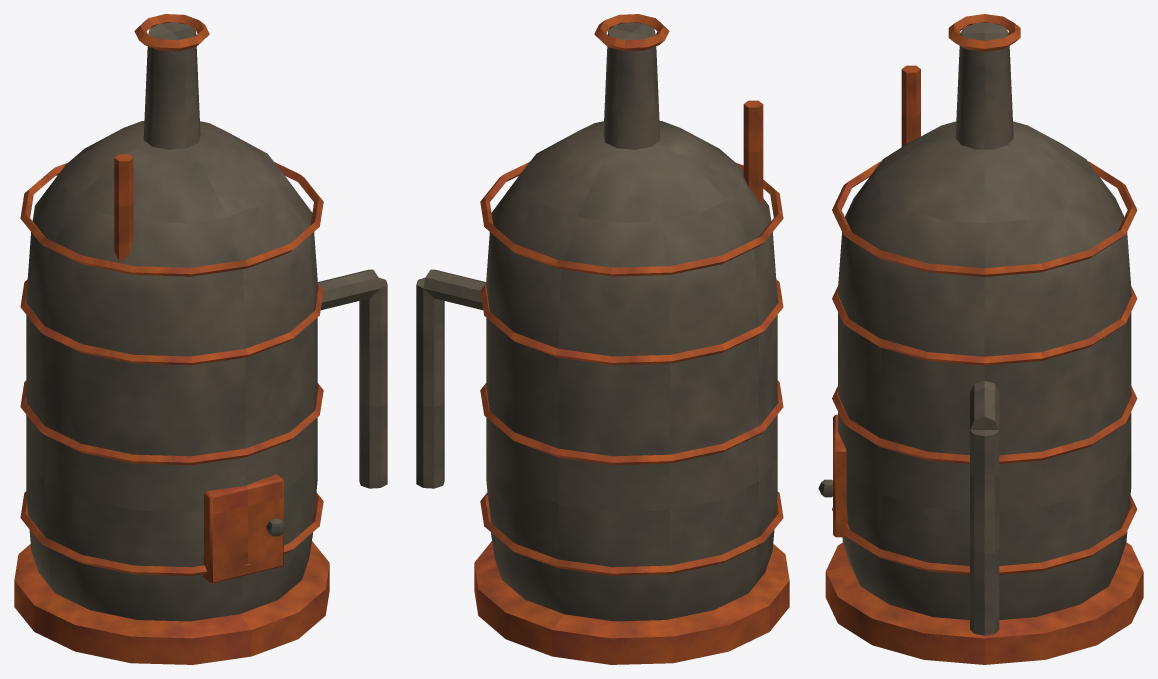
The model's file is prop_cannery_boiler.glb.
The picture shows the model from 3 angles, left to right: view 1: azimuth 30°, elevation 25°; view 2: azimuth 150°, elevation 25°; view 3: azimuth 270°, elevation 25°; orthographic projection.
Parts seen in each view (by area): view 1: Body, Rust; view 2: Body, Rust; view 3: Body, Rust.
Boxes of the visible parts, box(x1,y1,x2,y2) form: Body: box(26, 22, 387, 621); Rust: box(14, 14, 329, 664); Body: box(416, 22, 777, 621); Rust: box(474, 14, 789, 664); Body: box(818, 23, 1131, 635); Rust: box(825, 14, 1143, 664).
Size of the model in its own units: 1.66 by 2.58 by 1.33.
2 materials, 2 textured.
